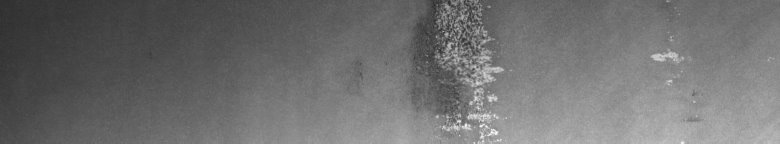hc: (359, 4, 512, 136)
